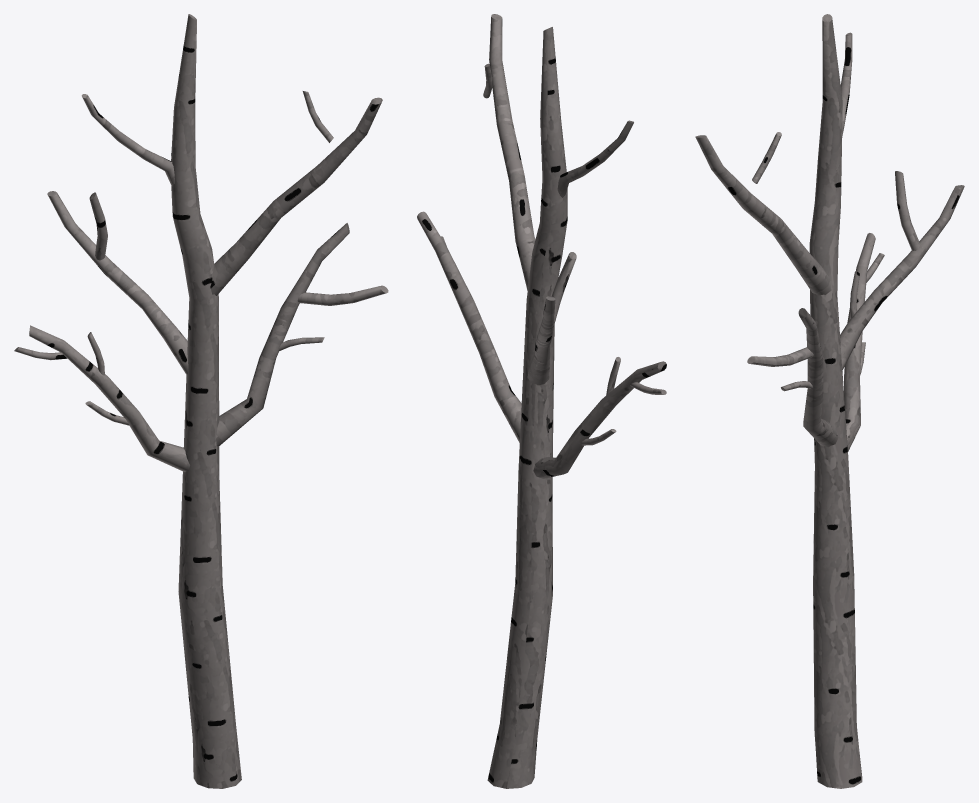
Rendered from DeadBirch_1.glb.
3 renders of one model, left to right at view 1: azimuth 30°, elevation 25°; view 2: azimuth 150°, elevation 25°; view 3: azimuth 270°, elevation 25°, orthographic. The views are drawn at different scales.
Parts seen in each view (by area): view 1: DeadBirch_1; view 2: DeadBirch_1; view 3: DeadBirch_1.
Part boxes in pixels (<box>): DeadBirch_1: <box>14,14,388,788</box>; DeadBirch_1: <box>417,14,666,788</box>; DeadBirch_1: <box>695,14,964,788</box>.
Size of the model in its own units: 3.86 by 9.37 by 3.06.
1 material, 1 textured.
